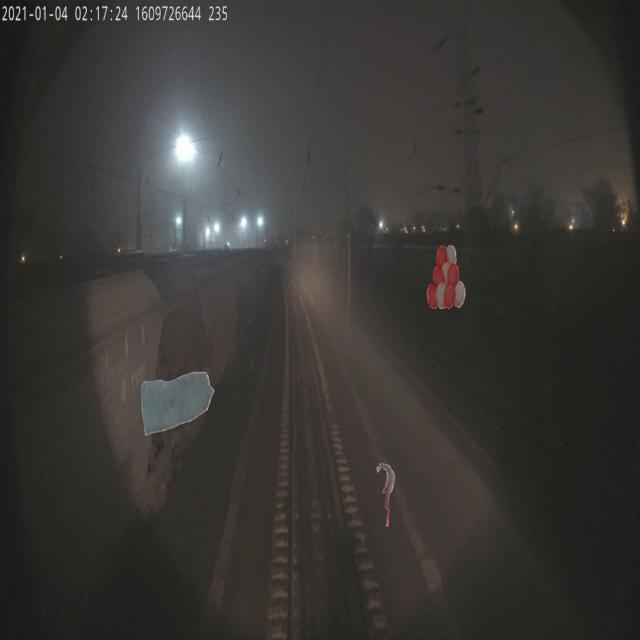balloon: (427, 244, 465, 308)
floating object: (138, 362, 218, 437), (376, 462, 396, 526)
